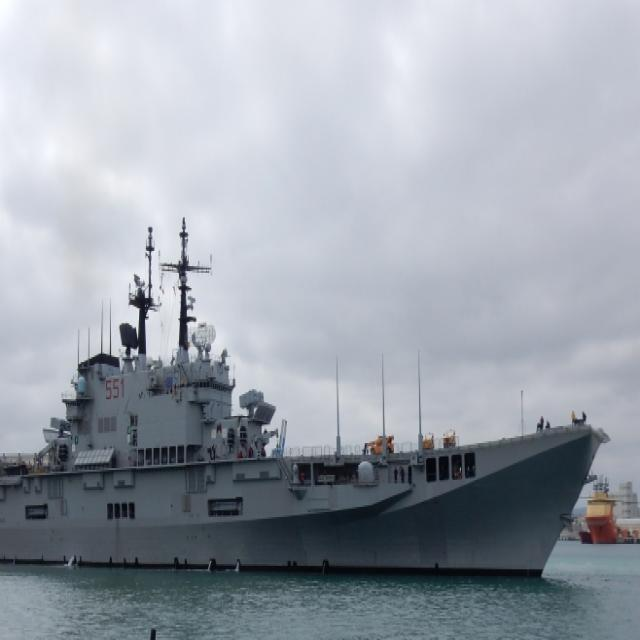Portanaves: (1, 218, 618, 594)
